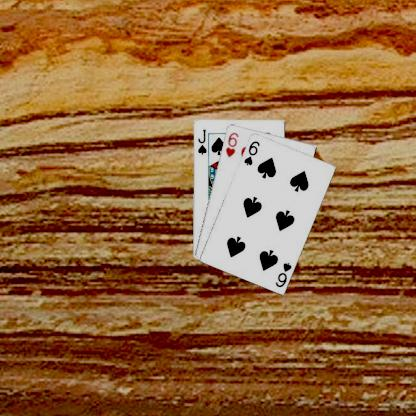6H: (223, 130, 239, 158)
6S: (241, 138, 261, 166), (272, 260, 292, 288)
JS: (195, 127, 207, 156)
